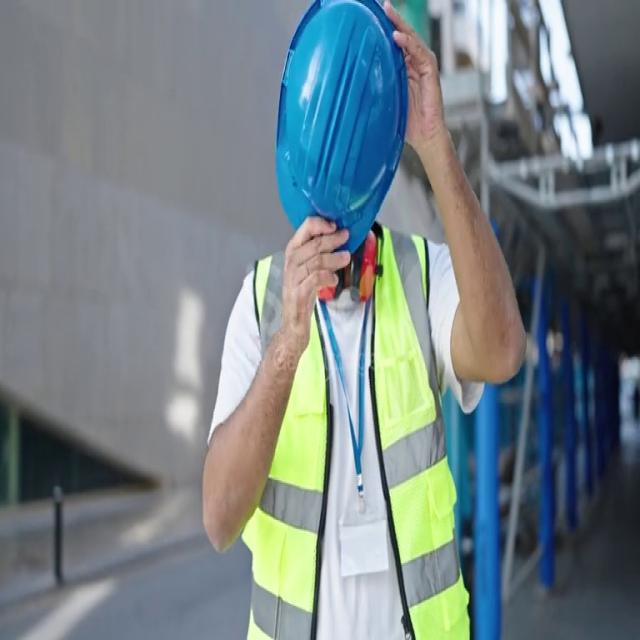capacete: (260, 2, 418, 271)
